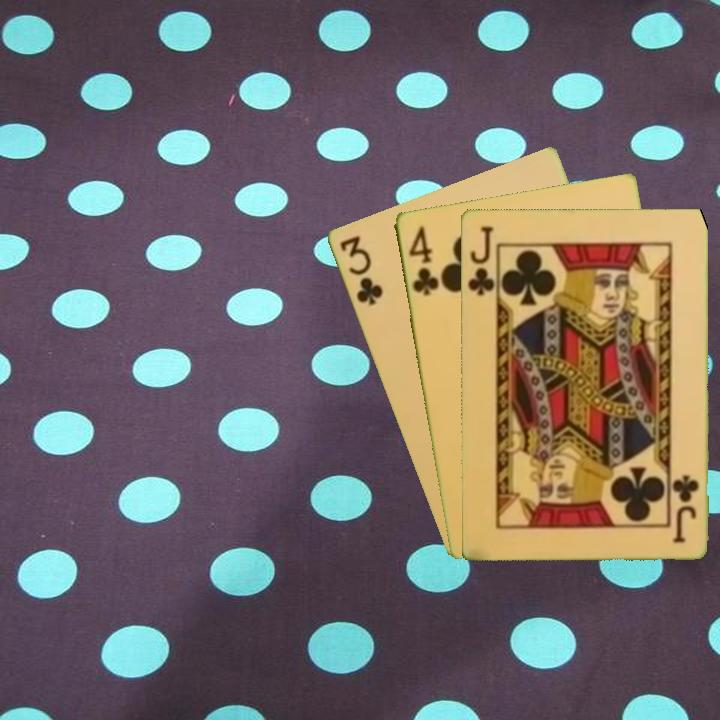3c: (335, 232, 385, 308)
4c: (404, 222, 441, 298)
Jc: (464, 222, 497, 298), (670, 471, 702, 545)
